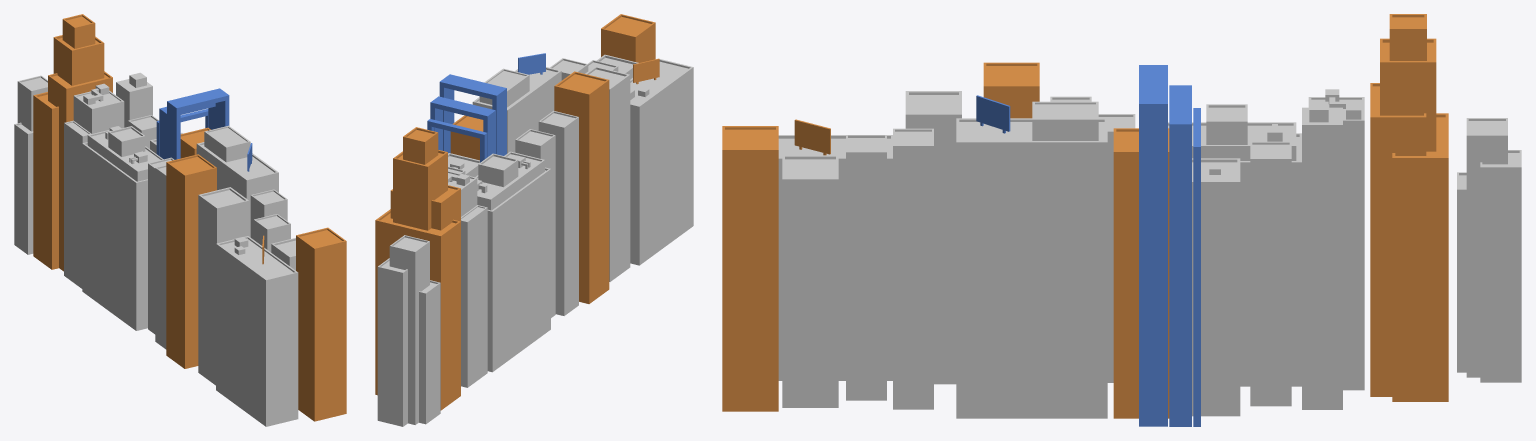
The model's file is Back Environment.fbx.
The picture shows the model from 3 angles, left to right: view 1: azimuth 30°, elevation 25°; view 2: azimuth 150°, elevation 25°; view 3: azimuth 270°, elevation 25°; orthographic projection. The views are drawn at different scales.
Parts seen in each view (by area): view 1: pCube60, pCube33, pCube59, pCube61, pCube43, pCube8, pCube30, pCube55, pCube15, pCube52, pCube29, pCube7 (+16 smaller); view 2: pCube60, pCube33, pCube61, pCube30, pCube8, pCube52, pCube54, pCube43, pCube7, pCube53, pCube55, pCube15 (+16 smaller); view 3: pCube15, pCube59, pCube30, pCube5, pCube3, pCube57, pCube56, pCube58, pCube62, pCube35, pCube54, pCube29 (+18 smaller).
Part boxes in pixels (box(x1,y1,x2,y2)): pCube60: box(216, 236, 298, 426); pCube33: box(82, 142, 147, 330); pCube59: box(296, 227, 346, 421); pCube61: box(166, 154, 216, 368); pCube43: box(198, 187, 248, 385); pCube8: box(64, 90, 124, 288); pCube30: box(33, 92, 58, 269); pCube55: box(14, 122, 33, 254); pCube15: box(196, 142, 278, 237); pCube52: box(155, 165, 166, 349); pCube29: box(48, 71, 112, 271); pCube7: box(53, 35, 104, 85); pCube60: box(630, 59, 693, 265); pCube33: box(487, 167, 550, 372); pCube61: box(554, 71, 609, 303); pCube30: box(375, 209, 460, 410); pCube8: box(448, 171, 487, 387); pCube52: box(538, 110, 578, 315); pCube54: box(377, 258, 407, 426); pCube43: box(585, 66, 630, 281); pCube7: box(393, 150, 447, 230); pCube53: box(389, 235, 429, 424); pCube55: box(419, 280, 440, 424); pCube15: box(472, 67, 561, 153); pCube15: box(956, 118, 1107, 418); pCube59: box(722, 126, 778, 411); pCube30: box(1392, 113, 1448, 401); pCube5: box(782, 155, 838, 407); pCube3: box(1302, 107, 1342, 409); pCube57: box(893, 128, 933, 409); pCube56: box(1250, 141, 1291, 406); pCube58: box(846, 135, 886, 400); pCube62: box(1192, 158, 1240, 416); pCube35: box(1139, 65, 1167, 426); pCube54: box(1480, 150, 1521, 382); pCube29: box(1370, 83, 1426, 396).
Bounding box in the file's own units: 1250 × 2925 × 5894.
